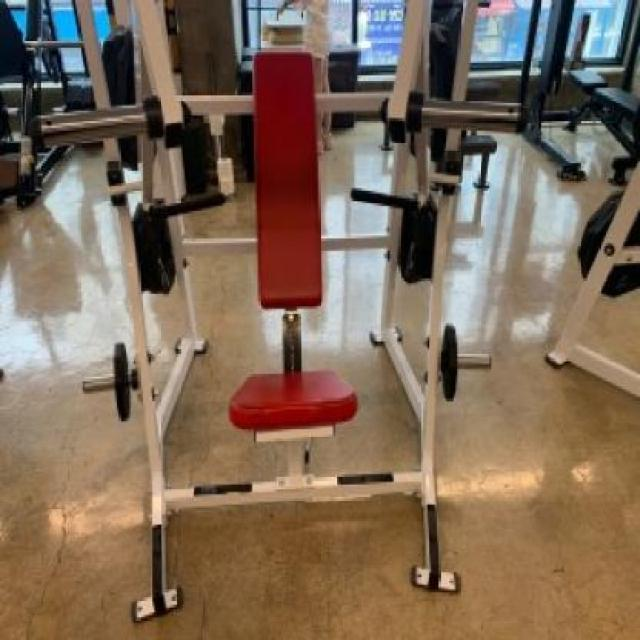seated dip machine: (12, 0, 518, 640)
